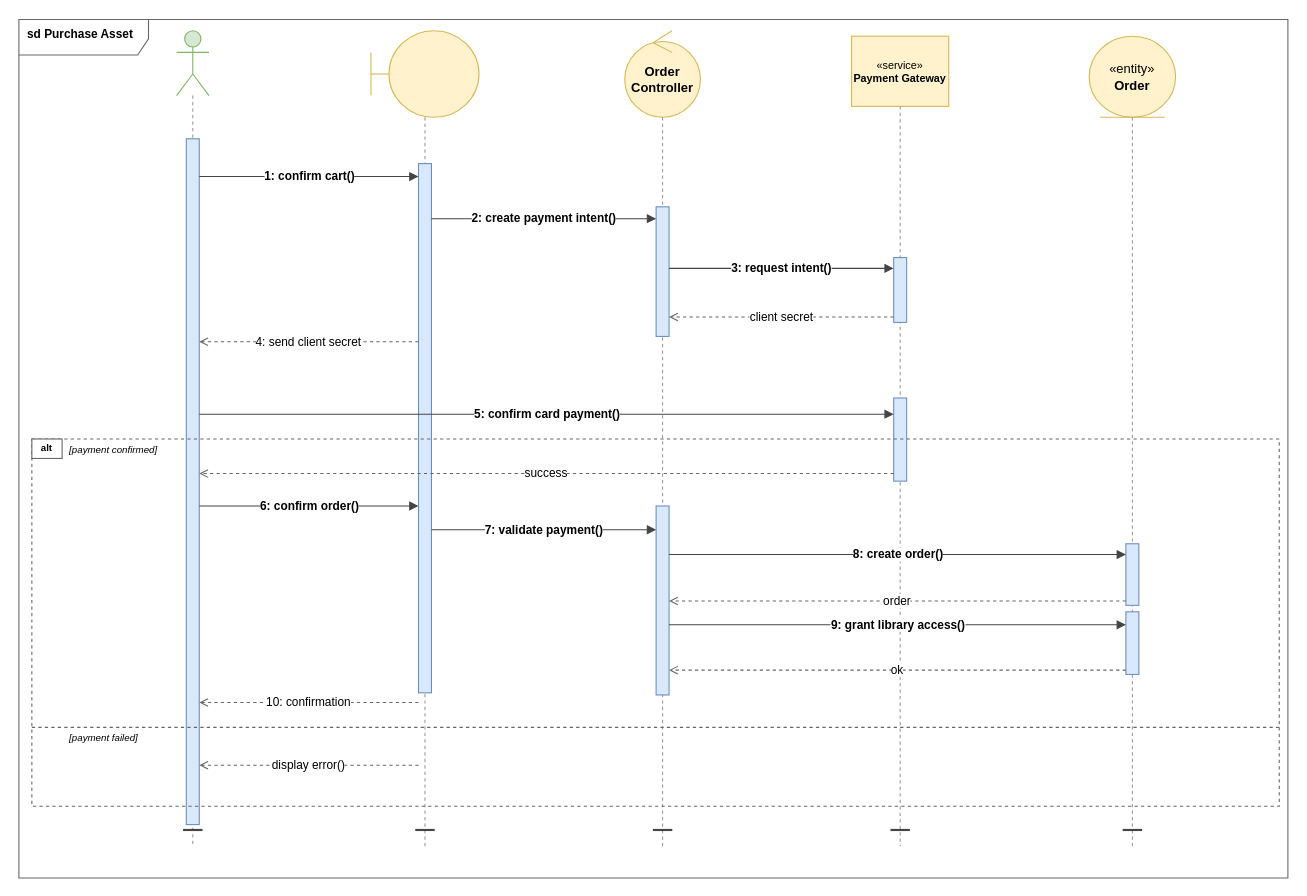
This 1307x896 diagram has some shape labels left out. The shapes that lost their labels are listed below. From the top down, each one's centre as x and y in pixels, then its label:
point 192,63: :Member
point 424,73: «boundary» Checkout Interface
